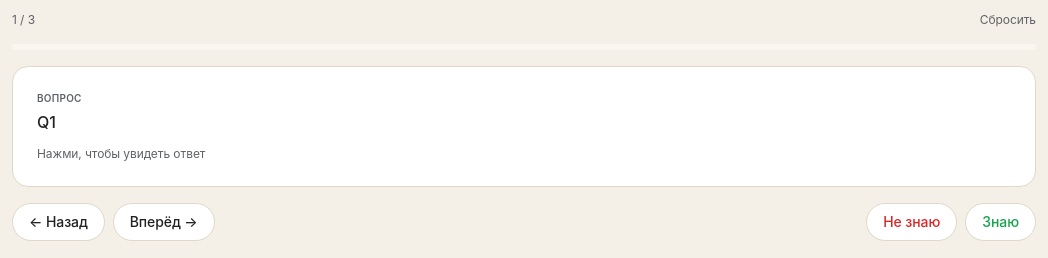
Test case: FlashcardDeck › advances to the next card on next-button click
Click the button with test id "flashcard-next" at x=164, y=222, box [113,203,215,241]
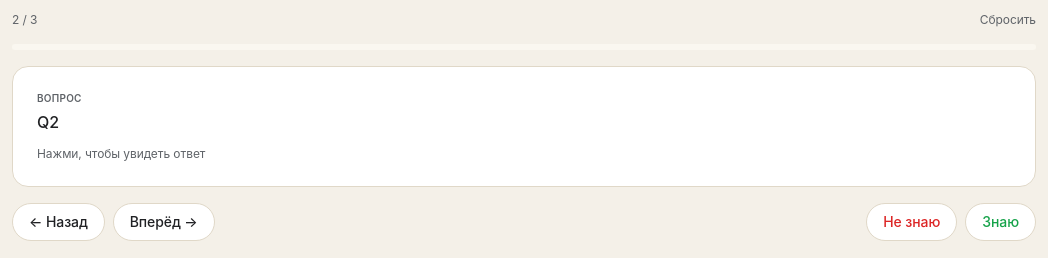
Expected: the text "Q2" is shown, [37,112,59,132]
Expected: the text "2 / 3" is shown, [12,12,37,28]
